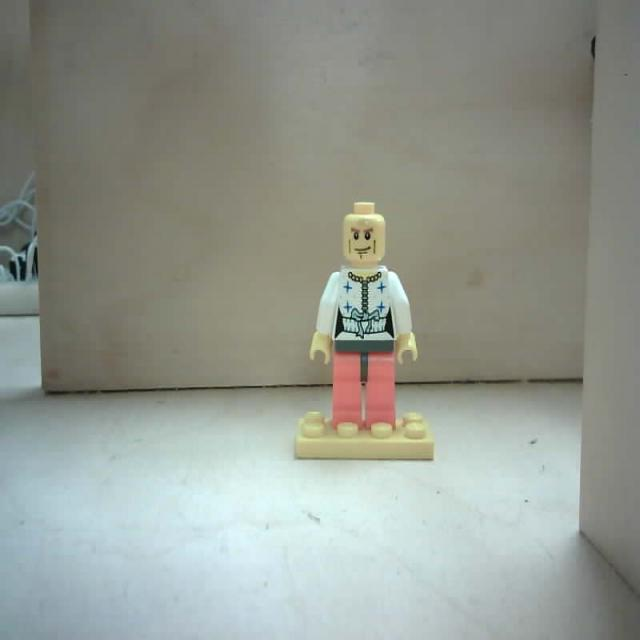Lego-People: (290, 201, 435, 471)
